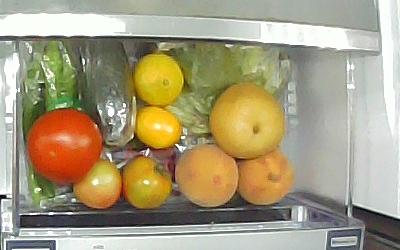peach: (174, 142, 239, 207), (235, 146, 295, 205)
pear: (207, 81, 285, 159)
tangerine: (131, 51, 184, 106), (133, 104, 182, 149)
tomato: (24, 106, 103, 184), (120, 153, 172, 209), (71, 157, 122, 209)
